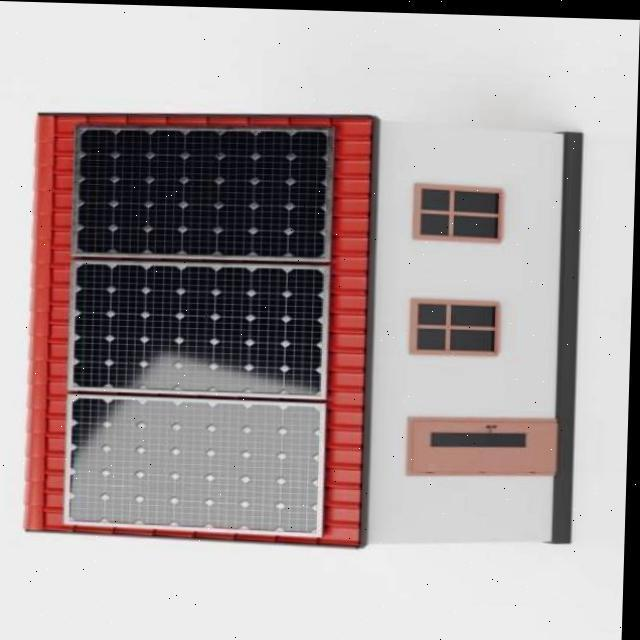Normal Solar Panel: (69, 394, 330, 534), (70, 256, 330, 396), (74, 120, 333, 258)
